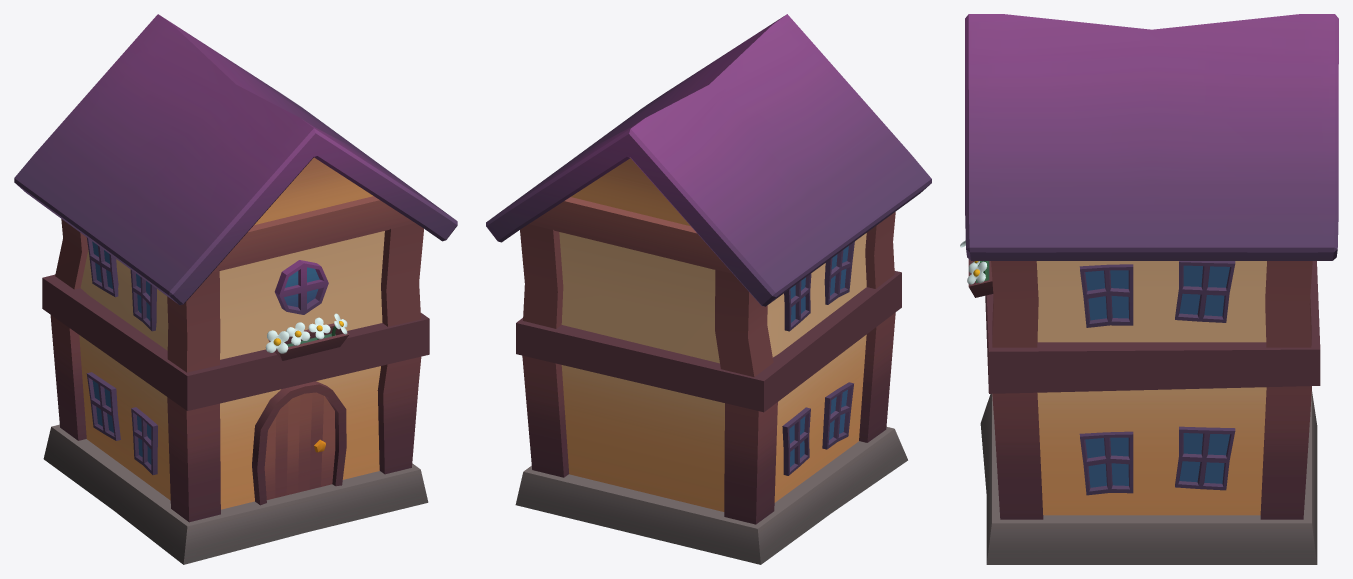
File: House_2Story_Purple.obj
3 views of the same model, side by side, from view 1: azimuth 30°, elevation 25°; view 2: azimuth 150°, elevation 25°; view 3: azimuth 270°, elevation 25° (orthographic). The views are drawn at different scales.
Visible parts, largest first — view 1: {mesh}House_2Story_Purple_Sphere.005; view 2: {mesh}House_2Story_Purple_Sphere.005; view 3: {mesh}House_2Story_Purple_Sphere.005.
Part boxes in pixels (left/top/right/bottom): {mesh}House_2Story_Purple_Sphere.005: left=14, top=14, right=457, bottom=564; {mesh}House_2Story_Purple_Sphere.005: left=486, top=14, right=931, bottom=564; {mesh}House_2Story_Purple_Sphere.005: left=960, top=14, right=1338, bottom=564.
Size of the model in its own units: 198 by 268 by 191.
1 material, 1 textured.
